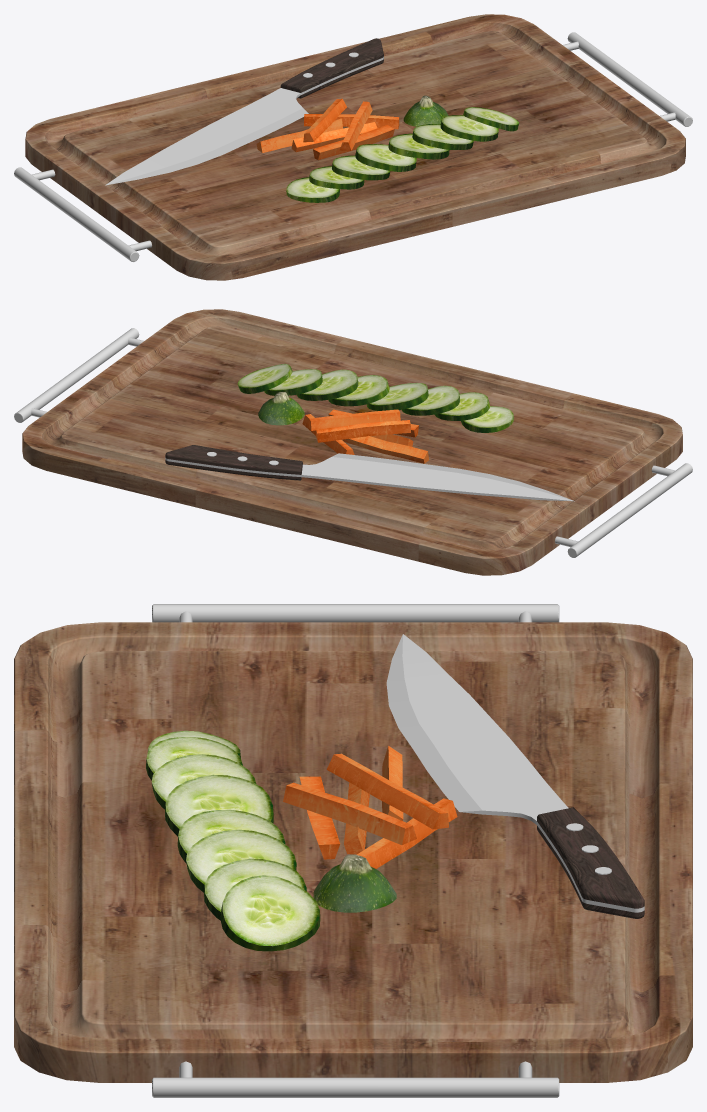
Rendered from obj_3december_2020_chopping_boar_445869.glb.
3 renders of one model, top to bottom at view 1: azimuth 30°, elevation 25°; view 2: azimuth 150°, elevation 25°; view 3: azimuth 270°, elevation 25°, orthographic. The views are drawn at different scales.
Visible parts, largest first — view 1: obj_3december_2020_chopping_boar_445869; view 2: obj_3december_2020_chopping_boar_445869; view 3: obj_3december_2020_chopping_boar_445869.
Part boxes in pixels (left/top/right/bottom): obj_3december_2020_chopping_boar_445869: left=14, top=14, right=692, bottom=280; obj_3december_2020_chopping_boar_445869: left=14, top=309, right=692, bottom=575; obj_3december_2020_chopping_boar_445869: left=14, top=604, right=692, bottom=1097.
Bounding box in the file's own units: 0.4 × 0.0274 × 0.2381.
6 materials, 4 textured.
